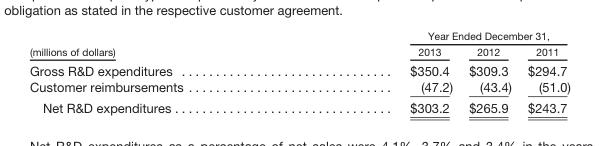table: (28, 29, 569, 114)
table column: (28, 29, 296, 114), (296, 29, 460, 114), (460, 29, 518, 114), (518, 29, 569, 114)
table column header: (28, 29, 569, 60)
table row: (28, 60, 569, 78), (28, 78, 569, 96), (28, 96, 569, 114), (28, 43, 569, 60), (28, 29, 569, 43)
table spanning cell: (28, 29, 296, 60), (296, 29, 569, 43)
